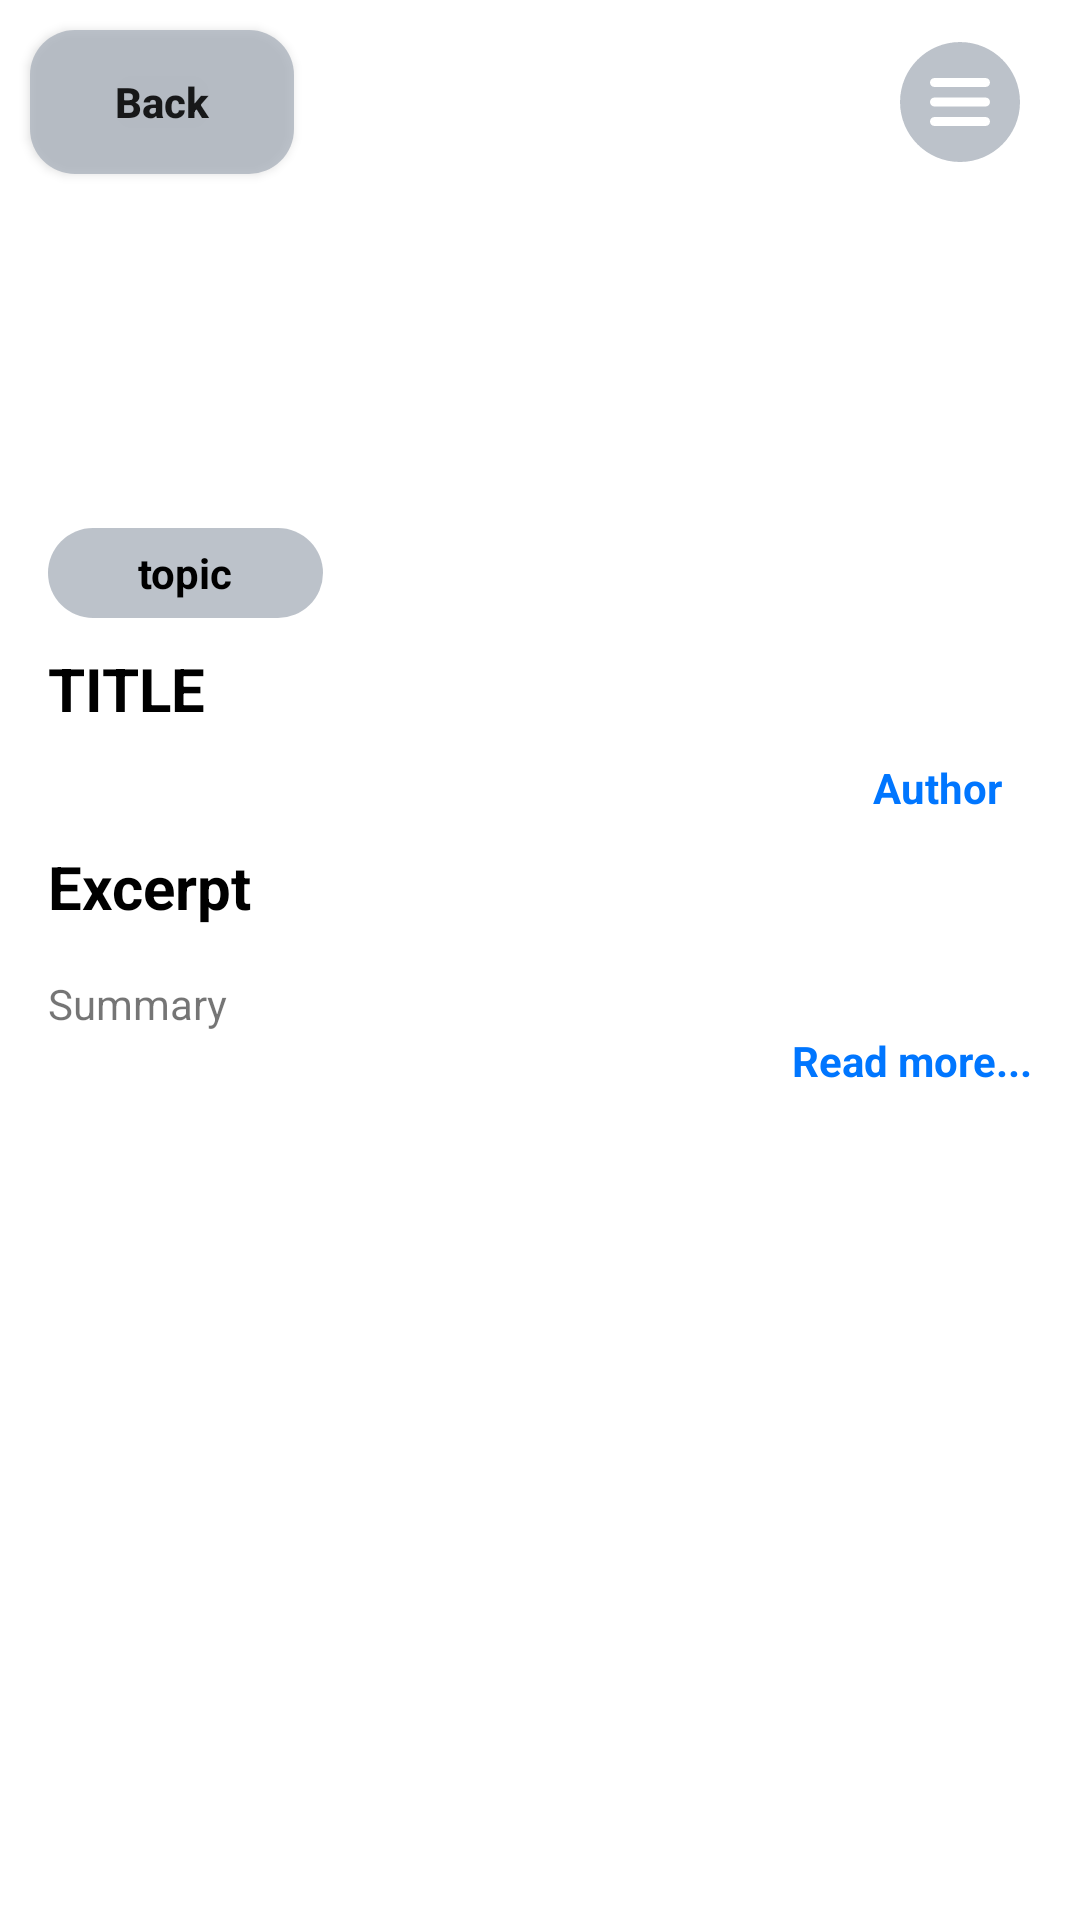

Icon bounding boxes for this 1080px×1920px phone screenshot, format (x1, y1, x2, y2):
more: (900, 42, 1020, 162)
